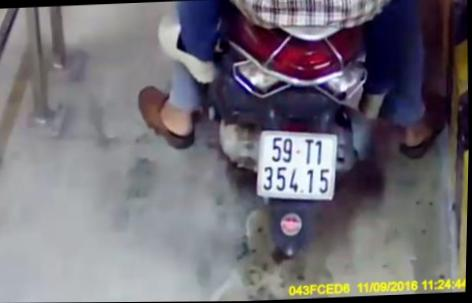LP: (251, 123, 344, 210)
